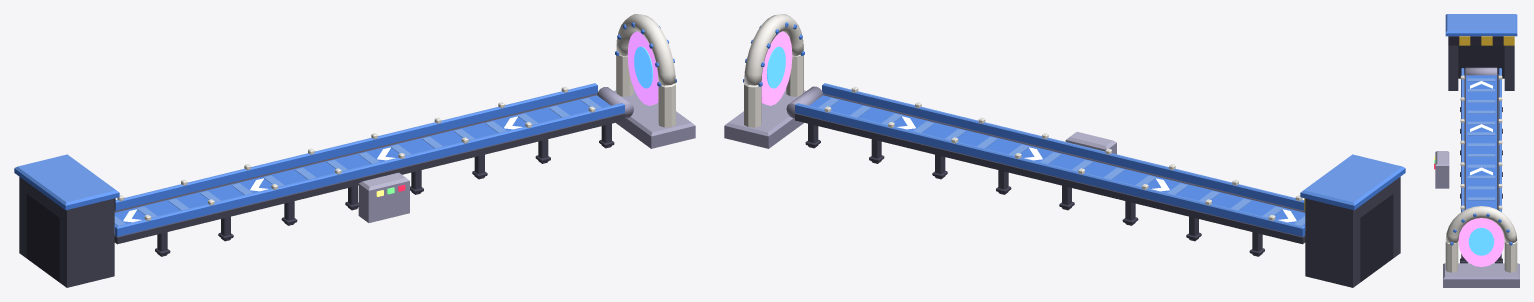
Rendered from Conveyor_4.glb.
3 renders of one model, left to right at view 1: azimuth 30°, elevation 25°; view 2: azimuth 150°, elevation 25°; view 3: azimuth 270°, elevation 25°, orthographic. The views are drawn at different scales.
Parts seen in each view (by area): view 1: Conveyor_4, Conveyor_4_Glow_portal, Conveyor_4_Glow_acc4, Conveyor_4_Glow_belt; view 2: Conveyor_4, Conveyor_4_Glow_portal, Conveyor_4_Glow_acc4, Conveyor_4_Glow_belt; view 3: Conveyor_4, Conveyor_4_Glow_portal, Conveyor_4_Glow_acc4, Conveyor_4_Glow_belt.
Part boxes in pixels (x1,y1,x2,y2): Conveyor_4: [14, 14, 695, 287]; Conveyor_4_Glow_portal: [627, 31, 658, 105]; Conveyor_4_Glow_acc4: [634, 46, 653, 88]; Conveyor_4_Glow_belt: [123, 116, 522, 222]; Conveyor_4: [724, 14, 1405, 287]; Conveyor_4_Glow_portal: [761, 31, 792, 105]; Conveyor_4_Glow_acc4: [766, 46, 785, 88]; Conveyor_4_Glow_belt: [897, 116, 1296, 222]; Conveyor_4: [1435, 14, 1519, 287]; Conveyor_4_Glow_portal: [1458, 218, 1504, 266]; Conveyor_4_Glow_acc4: [1468, 227, 1494, 255]; Conveyor_4_Glow_belt: [1470, 81, 1492, 175].
Bounding box in the file's own units: 79.2 × 13 × 13.4.
7 materials, 1 textured.
